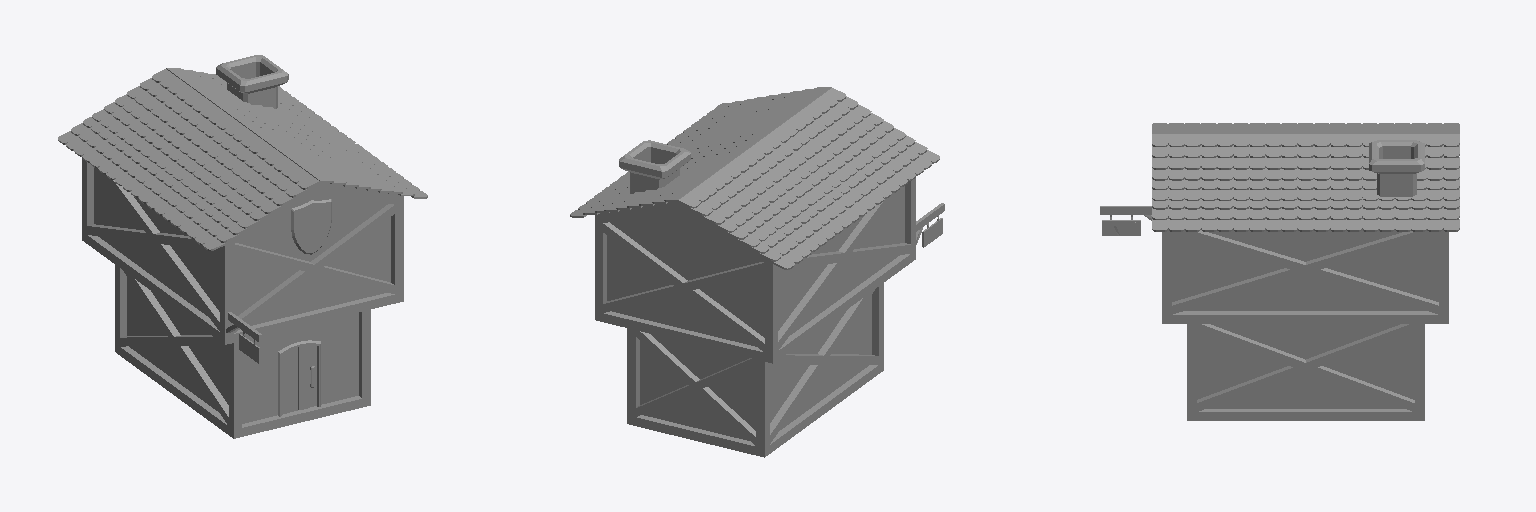
The model's file is house.obj.
The picture shows the model from 3 angles: view 1: azimuth 30°, elevation 25°; view 2: azimuth 150°, elevation 25°; view 3: azimuth 270°, elevation 25°; orthographic projection.
Visible parts, largest first — view 1: Cube, Chimney_Cube.001; view 2: Cube, Chimney_Cube.001; view 3: Cube, Chimney_Cube.001.
Boxes of the visible parts, x1,y1,x2,y2 form: Cube: [58, 68, 427, 438]; Chimney_Cube.001: [216, 55, 288, 108]; Cube: [570, 87, 944, 457]; Chimney_Cube.001: [619, 140, 690, 193]; Cube: [1100, 123, 1459, 420]; Chimney_Cube.001: [1369, 140, 1424, 196].
Bounding box in the file's own units: 6.41 × 7.34 × 9.06.